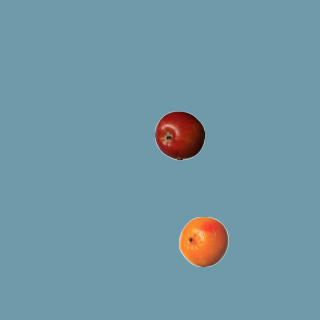Apple Braeburn: (154, 110, 204, 160)
Grapefruit Pink: (178, 216, 228, 266)
